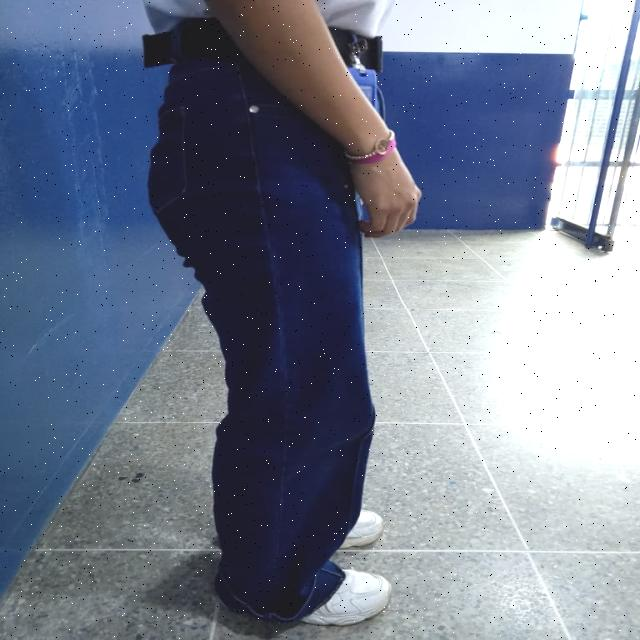carnet: (345, 83, 376, 129)
pantalon_oscuro: (149, 49, 385, 626)
